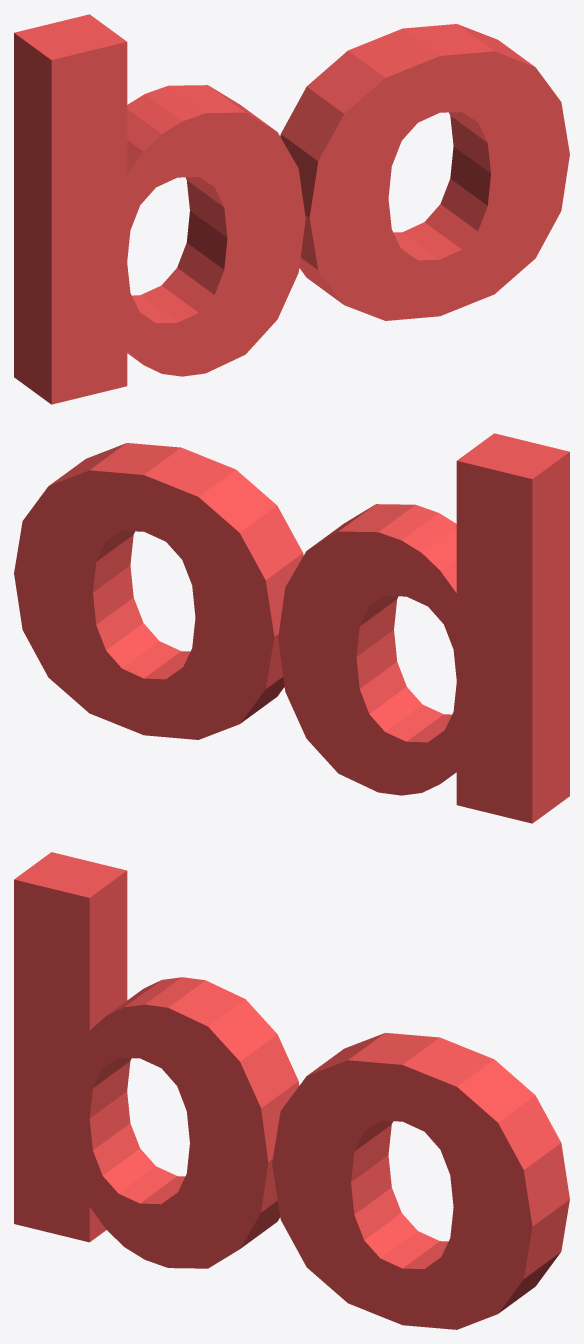
Rendered from suku_kecil_bo.glb.
3 renders of one model, top to bottom at view 1: azimuth 30°, elevation 25°; view 2: azimuth 150°, elevation 25°; view 3: azimuth 330°, elevation 25°, orthographic.
Visible parts, largest first — view 1: geometry_0; view 2: geometry_0; view 3: geometry_0.
Boxes of the visible parts, left/top/right/bottom form: geometry_0: left=14, top=14, right=569, bottom=404; geometry_0: left=14, top=433, right=569, bottom=823; geometry_0: left=14, top=852, right=569, bottom=1329.
Bounding box in the file's own units: 11.97 × 7.74 × 1.5.
